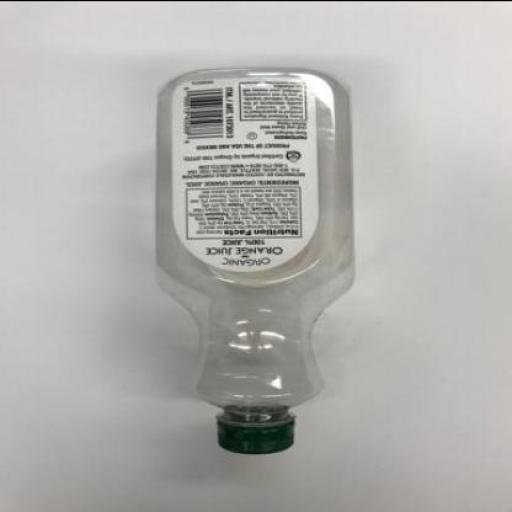plastic: (156, 65, 355, 453), (212, 406, 298, 453)
